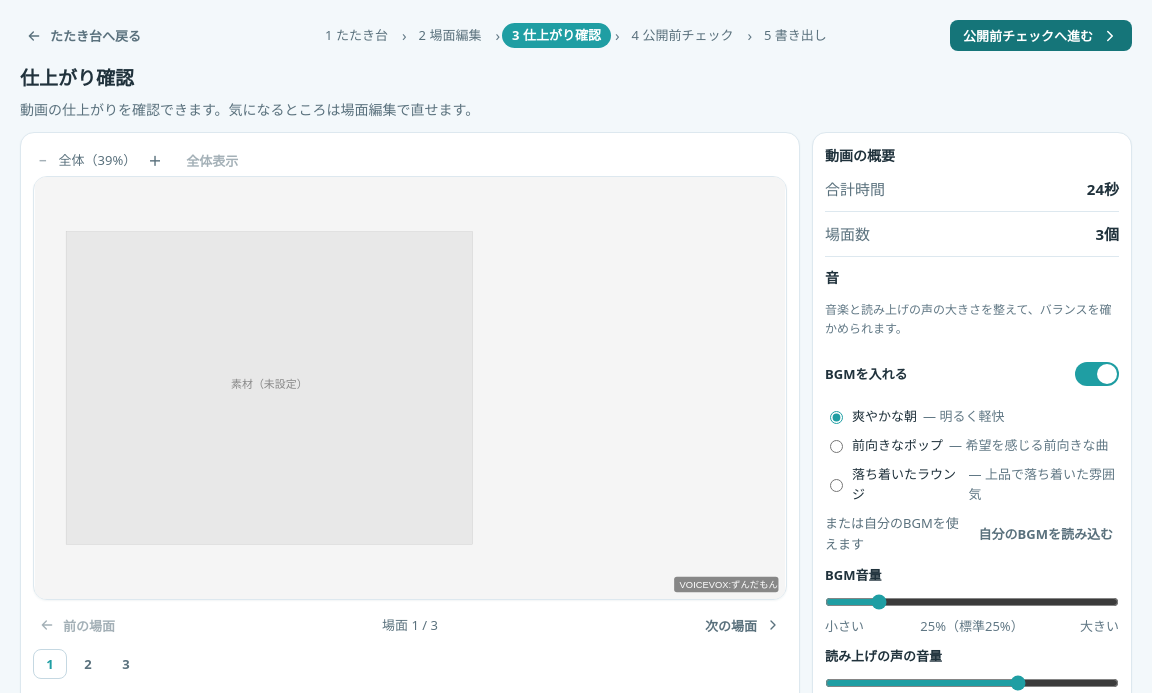
PreviewScreen 場面ジャンプ（#413） › 番号ボタンで直接その場面へ跳べ、今の場面が aria-current になる
Expected: the text "場面 1 / 3" is shown, [382,615,438,636]
What coordinates should you click on to do the following:
click the button named "場面3へ移動"
I would click on:
 (126, 664)
Its box is [109,649,143,679].
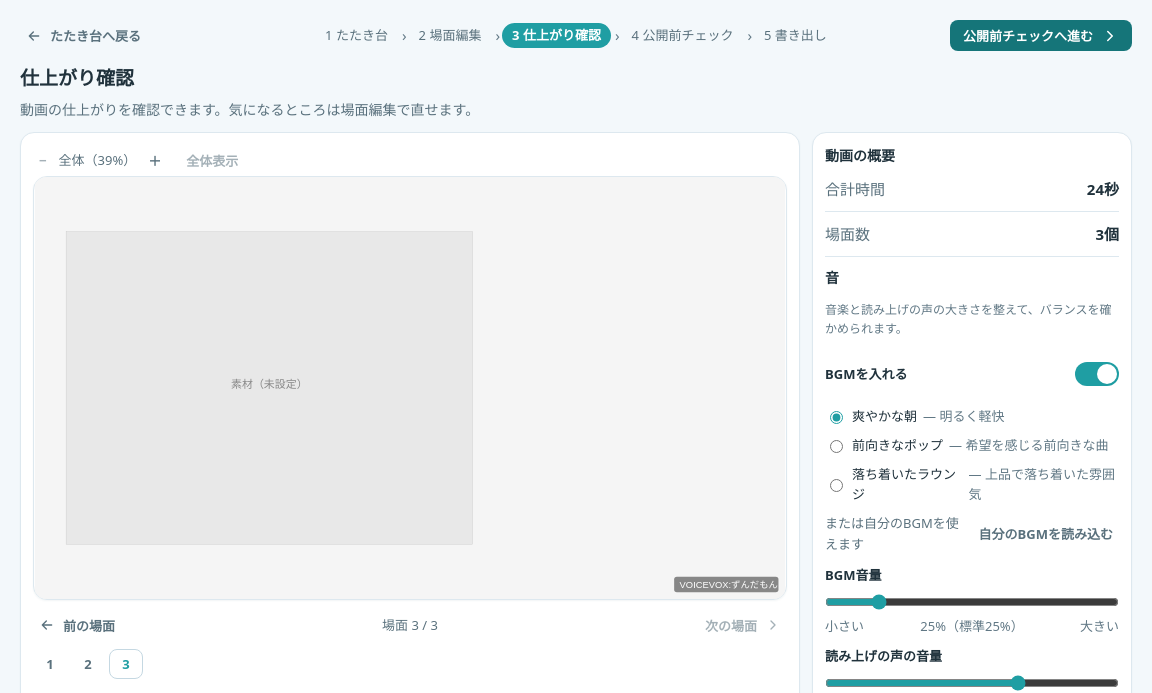
Expected: the text "場面 3 / 3" is shown, [382,615,438,636]
